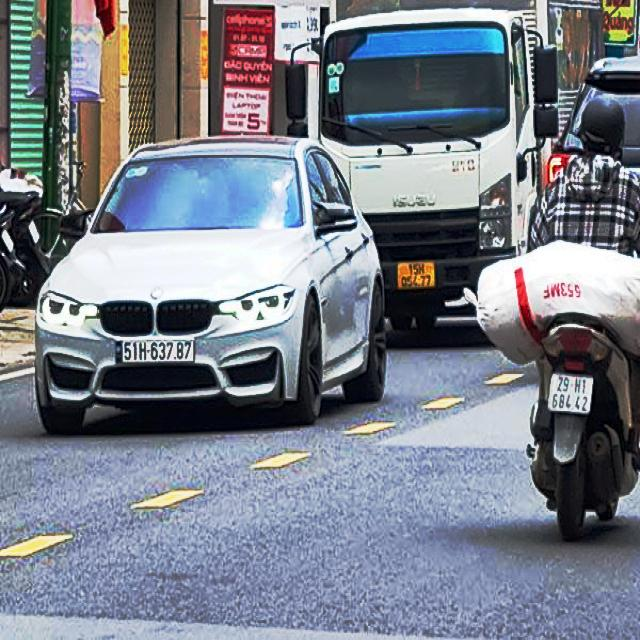license_plate: (548, 374, 595, 416), (123, 340, 195, 364), (399, 261, 436, 290)
